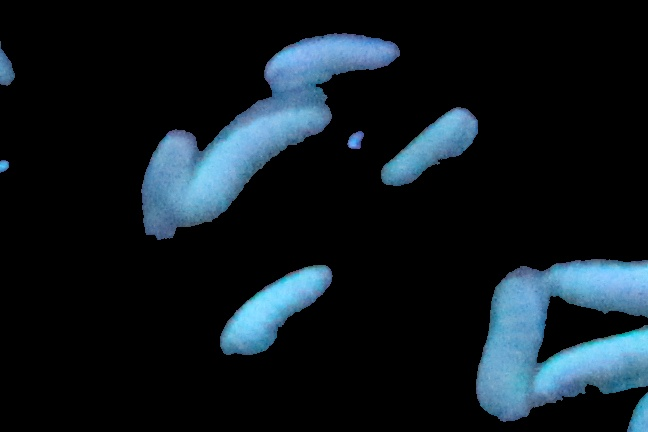larvae: (179, 106, 330, 229), (219, 265, 332, 362), (477, 275, 546, 419), (531, 334, 648, 412), (535, 251, 648, 323), (379, 106, 477, 189), (264, 37, 402, 89), (140, 131, 192, 251)
